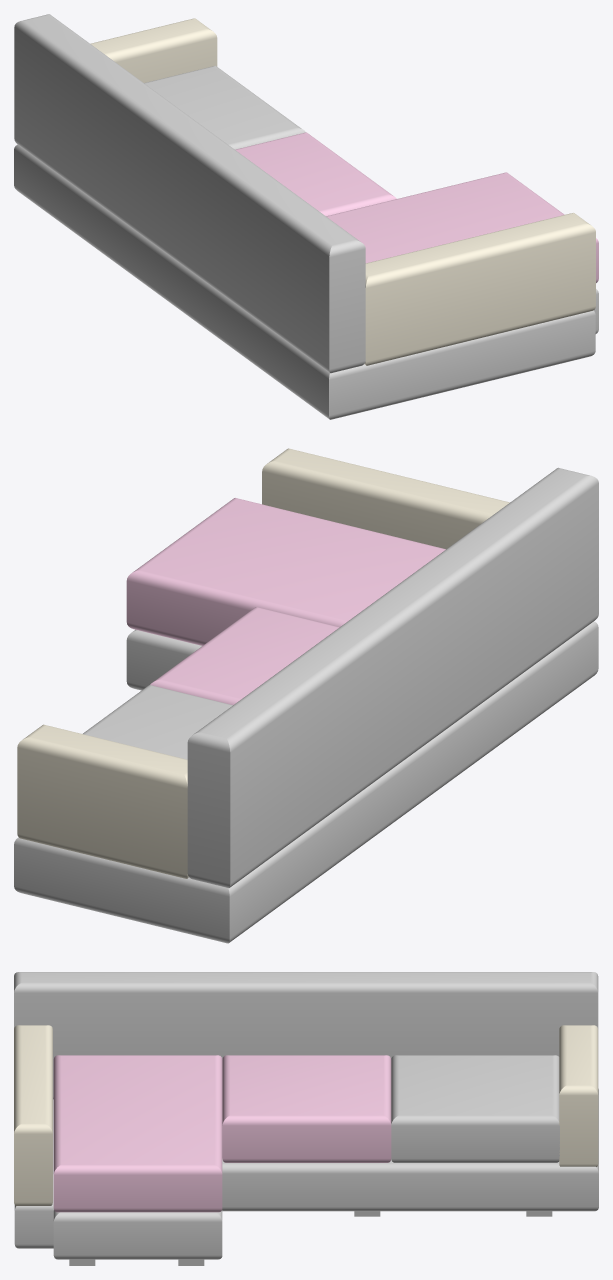
3 renders of one model, top to bottom at view 1: azimuth 30°, elevation 25°; view 2: azimuth 150°, elevation 25°; view 3: azimuth 270°, elevation 25°, orthographic. The views are drawn at different scales.
Parts seen in each view (by area): view 1: Mesh7_ALMOFADA_LONGA1________15_1_Model; view 2: Mesh7_ALMOFADA_LONGA1________15_1_Model; view 3: Mesh7_ALMOFADA_LONGA1________15_1_Model.
Part boxes in pixels (x1=…): Mesh7_ALMOFADA_LONGA1________15_1_Model: x1=14, y1=14, x2=598, y2=419; Mesh7_ALMOFADA_LONGA1________15_1_Model: x1=14, y1=448, x2=598, y2=943; Mesh7_ALMOFADA_LONGA1________15_1_Model: x1=14, y1=972, x2=598, y2=1265.
Size of the model in its own units: 0.5357 by 0.3188 by 1.01.
